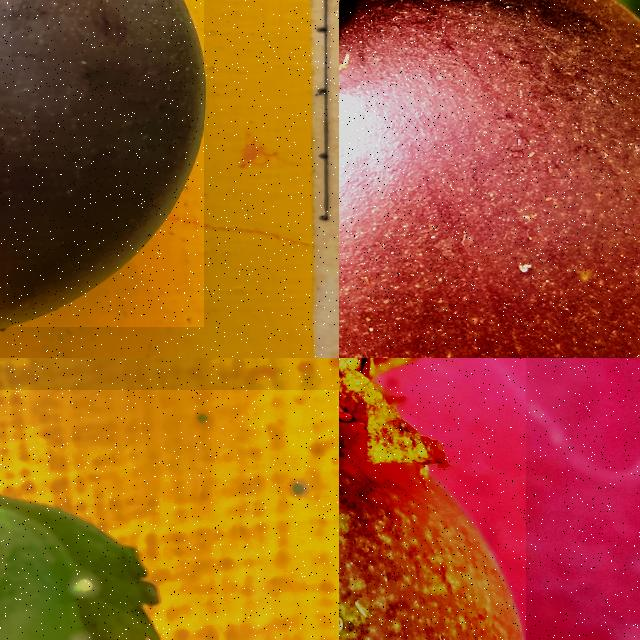Estado-2: (339, 358, 520, 640)
Estado-6: (339, 0, 640, 358)
